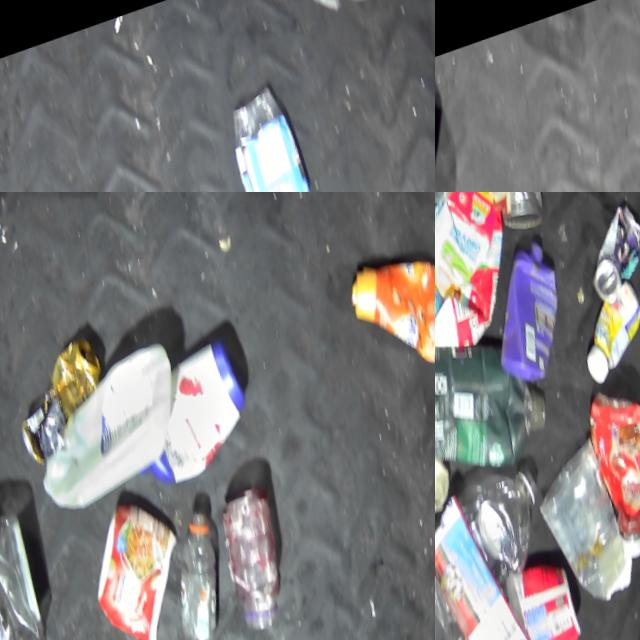can: (576, 220, 640, 323), (478, 192, 561, 250)
milk_jug: (20, 342, 203, 529), (402, 0, 435, 81)
non_white_jug: (435, 337, 565, 492), (486, 253, 582, 400), (587, 392, 640, 584)
plastic_bottle: (437, 479, 572, 614), (162, 512, 252, 640), (0, 505, 81, 640), (435, 192, 498, 233)
